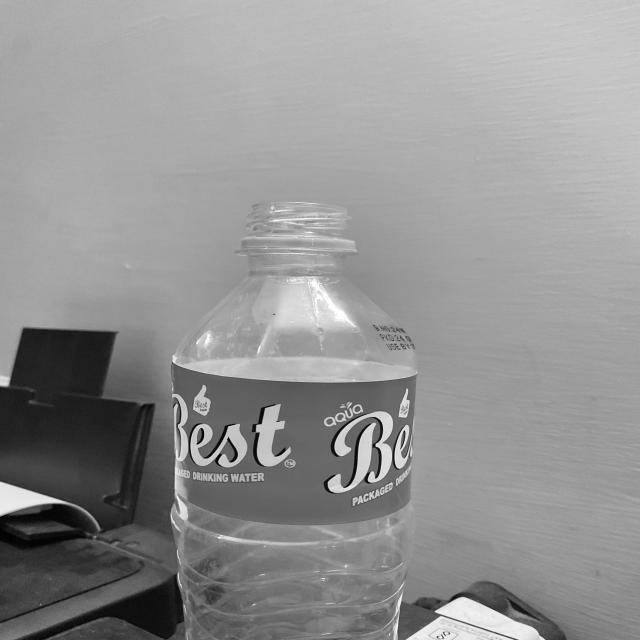open-cap: (240, 202, 355, 247)
